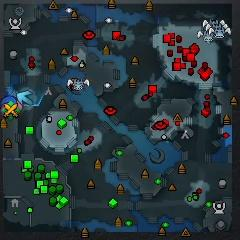Other: (2, 101, 20, 121)
p1: (2, 96, 16, 106)
p3: (0, 104, 6, 117)
x1: (16, 101, 24, 110)
x3: (17, 90, 34, 106)
